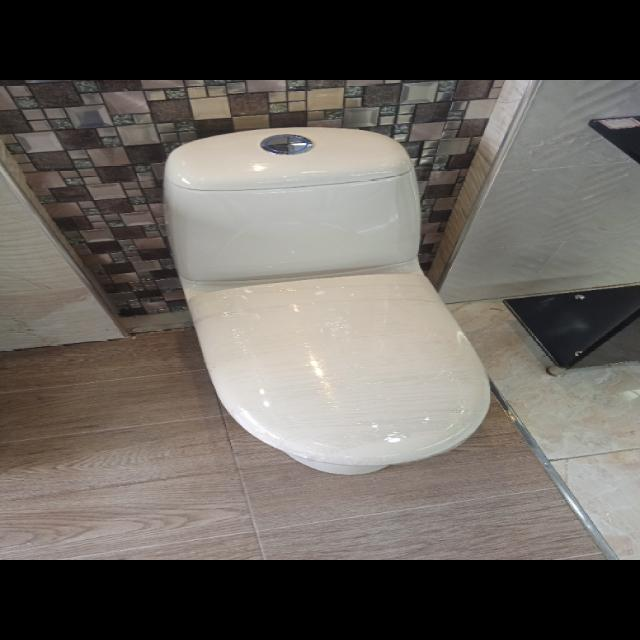toilet: (162, 126, 492, 475)
